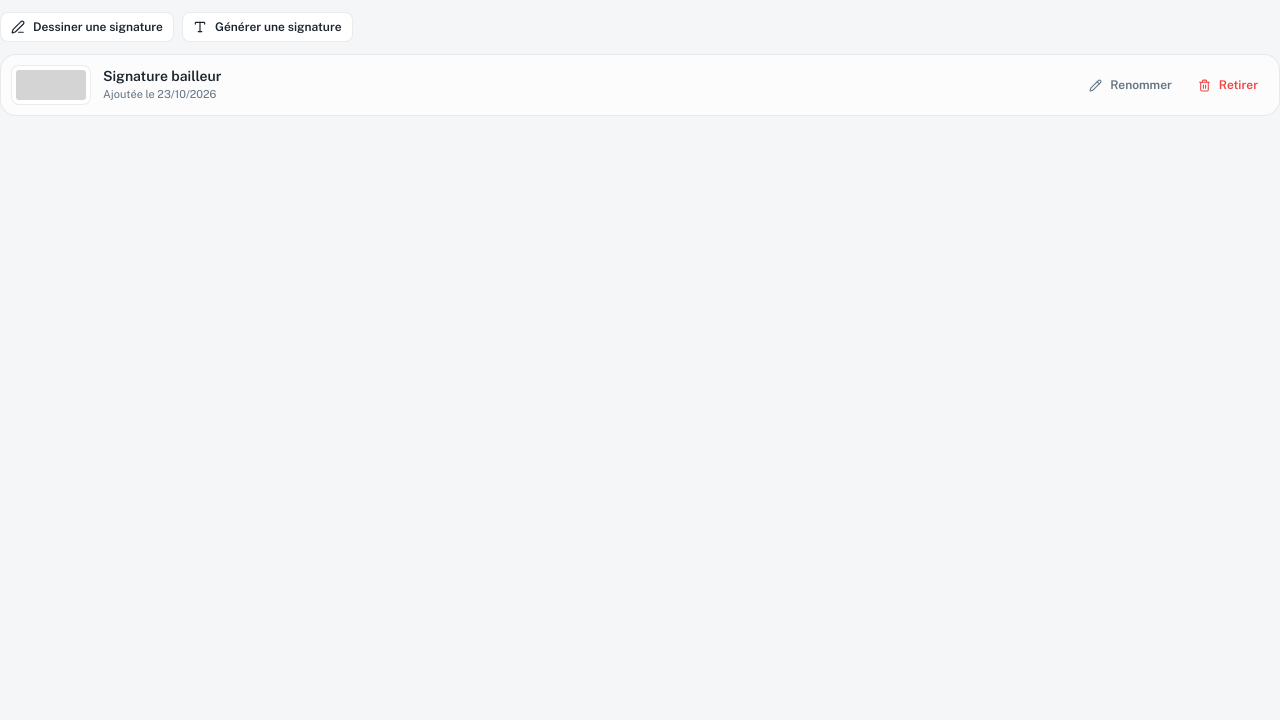
Test: SignatureStudio › keeps the rename dialog open and reports a failure
Click the button with aria-label "Renommer Signature bailleur": click(1130, 85) [1078, 70, 1183, 100]
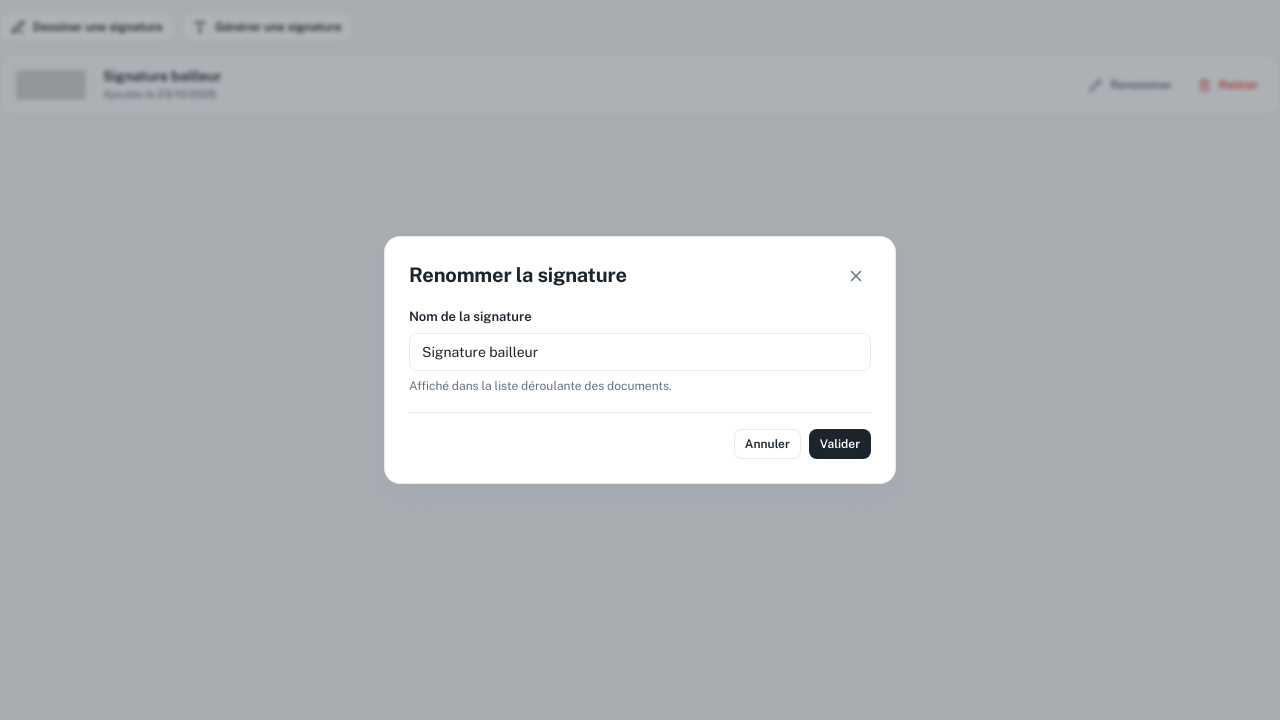
Click the button "Valider": click(840, 444) [809, 430, 871, 460]
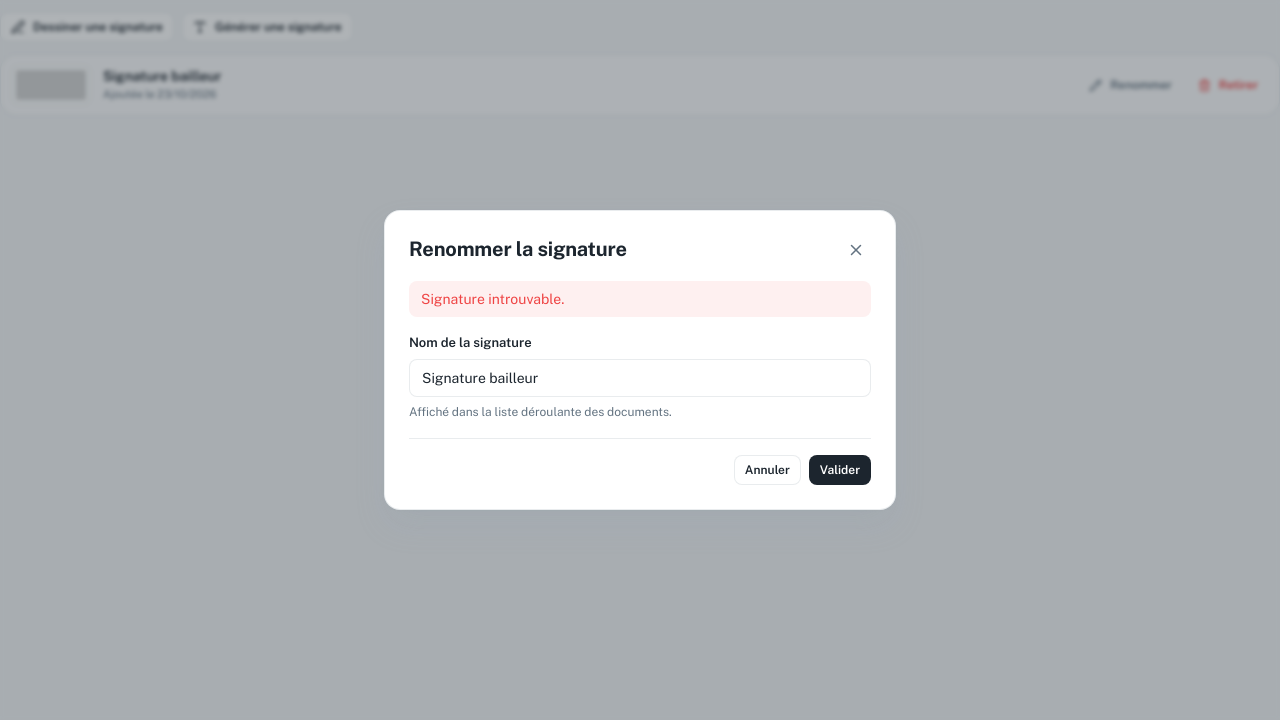
Check: the dialog "Renommer la signature" is shown, box [384, 210, 896, 510]
Check: the message reads "Signature introuvable.", box [421, 290, 564, 306]
